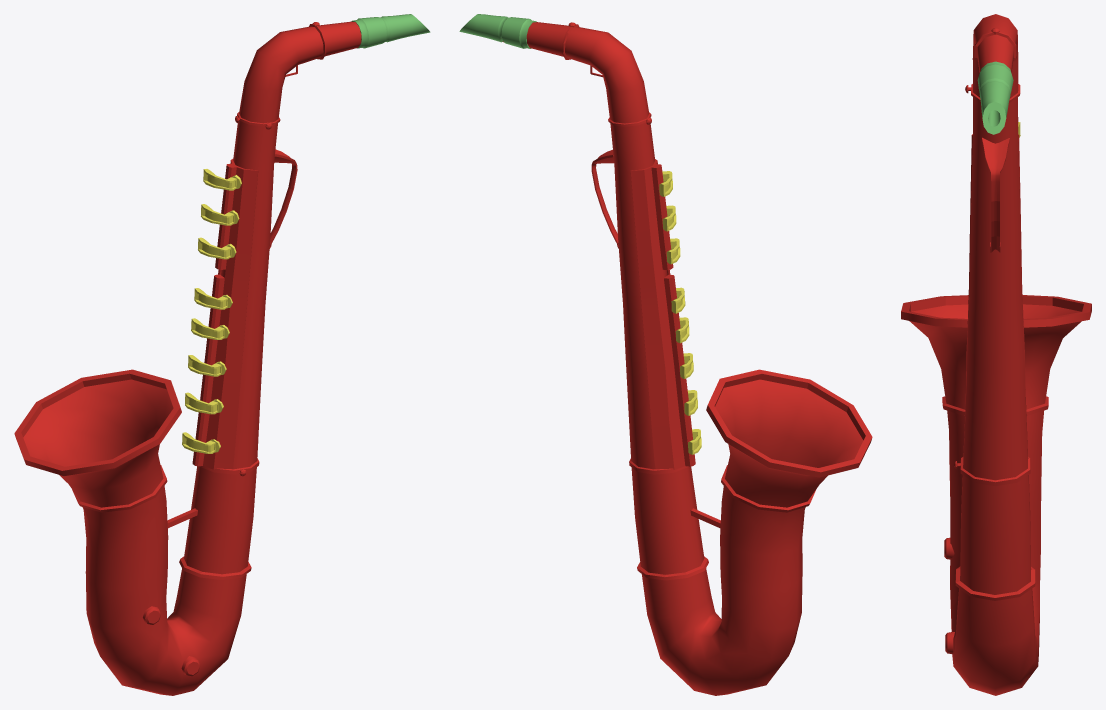
The model's file is ToySax.fbx.
The picture shows the model from 3 angles, left to right: view 1: azimuth 30°, elevation 25°; view 2: azimuth 150°, elevation 25°; view 3: azimuth 270°, elevation 25°; orthographic projection. The views are drawn at different scales.
Visible parts, largest first — view 1: Main; view 2: Main; view 3: Main.
Boxes of the visible parts, x1=… form: Main: x1=14, y1=14, x2=430, y2=695; Main: x1=459, y1=14, x2=872, y2=695; Main: x1=901, y1=14, x2=1091, y2=695.
Size of the model in its own units: 7.1 by 10.7 by 2.49.
